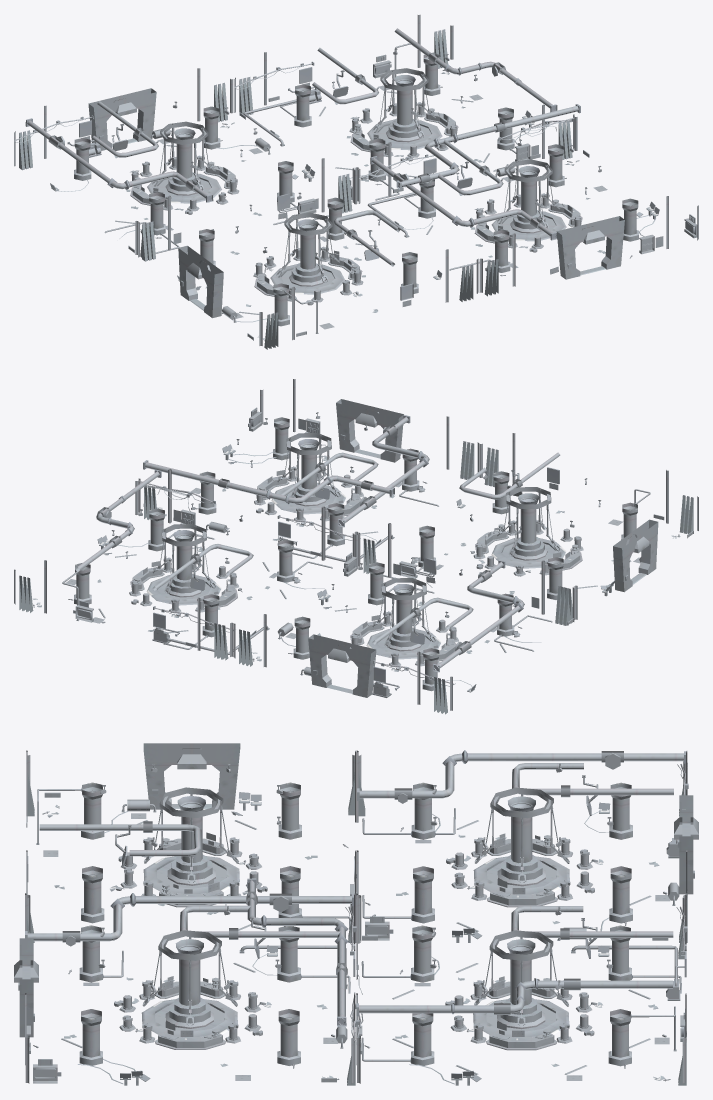
Rendered from Combined_Mesh_root_scene__9_f65a131e__ZombiesII_laboratory_02_d_7436f9f5_c1f257_part001.obj.
The picture shows the model from 3 angles, top to bottom: view 1: azimuth 30°, elevation 25°; view 2: azimuth 150°, elevation 25°; view 3: azimuth 270°, elevation 25°; orthographic projection. The views are drawn at different scales.
Size of the model in its own units: 83.04 by 10.34 by 83.14.
538 materials, 538 textured.
